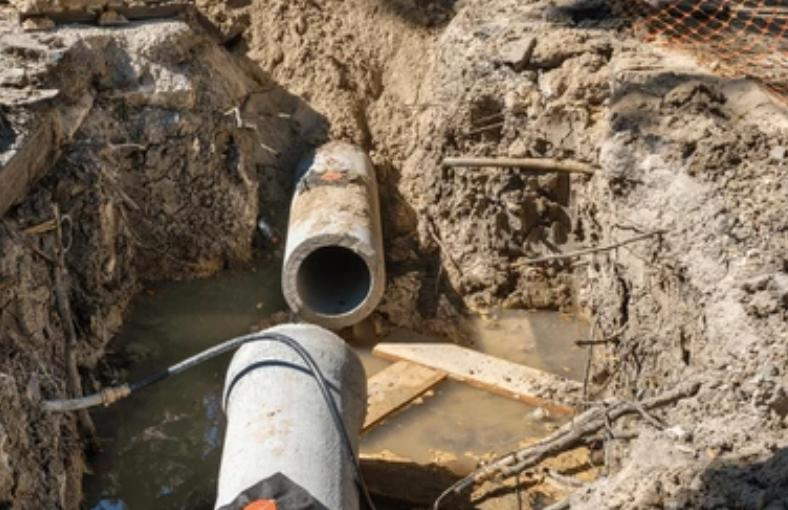water accumulation: (96, 265, 595, 510)
